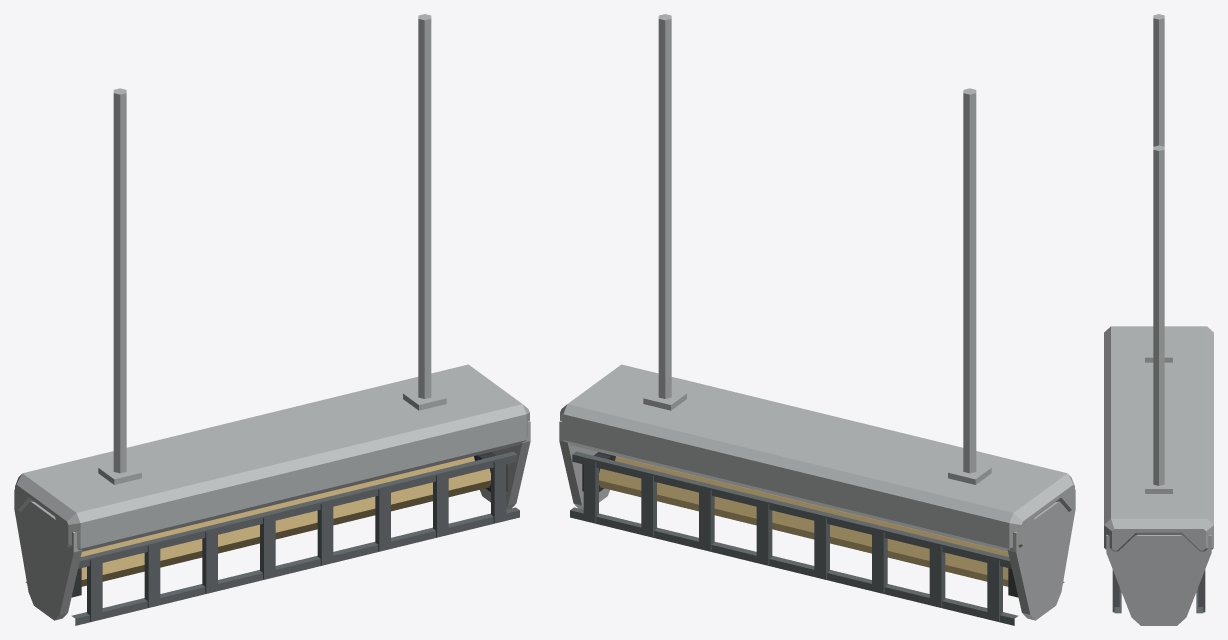
Rendered from pass-heat-lamp-c79dc8.glb.
3 views of the same model, side by side, from view 1: azimuth 30°, elevation 25°; view 2: azimuth 150°, elevation 25°; view 3: azimuth 270°, elevation 25° (orthographic). The views are drawn at different scales.
Parts seen in each view (by area): view 1: pass-heat-lamp, lamp-guard; view 2: pass-heat-lamp, lamp-guard; view 3: pass-heat-lamp, lamp-guard.
Part boxes in pixels (left/top/right/bottom): pass-heat-lamp: left=14, top=14, right=530, bottom=620; lamp-guard: left=25, top=451, right=519, bottom=625; pass-heat-lamp: left=559, top=14, right=1075, bottom=620; lamp-guard: left=570, top=451, right=1064, bottom=625; pass-heat-lamp: left=1104, top=14, right=1213, bottom=625; lamp-guard: left=1112, top=570, right=1205, bottom=613.
Size of the model in its own units: 1.2 by 1.25 by 0.28.
